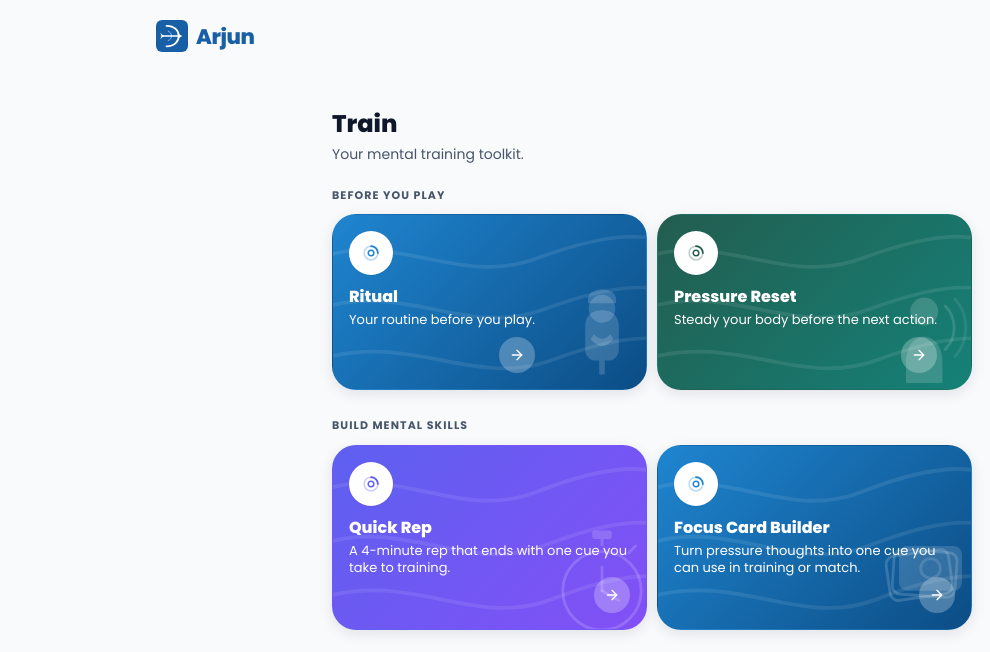
it: TrainPage — Ritual entry, real router integration › renders a visible Ritual entry that navigates to /ritual on click
Expected: the text "Your routine before you play." is shown, [349, 311, 535, 329]
Click the button "Ritual Your routine before you play.". click: (490, 302)
box: [332, 214, 647, 390]
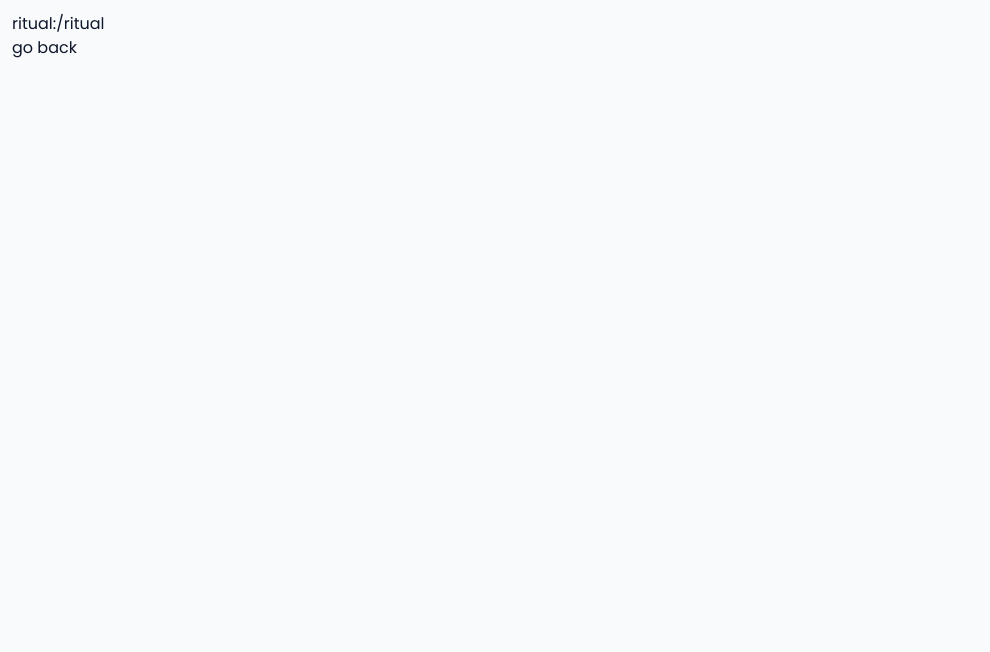
Expected: the text with test id "route-probe" reads "ritual:/ritual", [12, 12, 104, 35]
